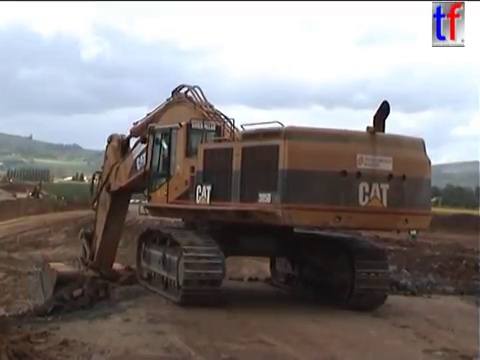excavator: (36, 81, 436, 314), (23, 179, 49, 202)
worker: (406, 215, 420, 243)
